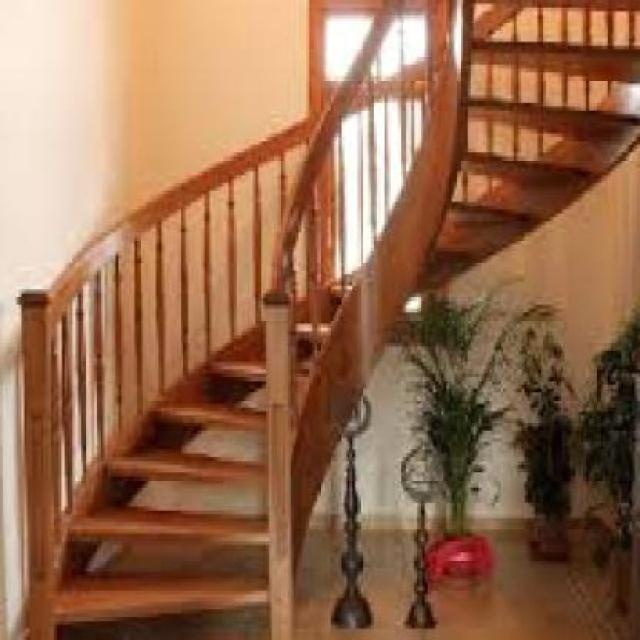stair: (16, 65, 401, 637)
